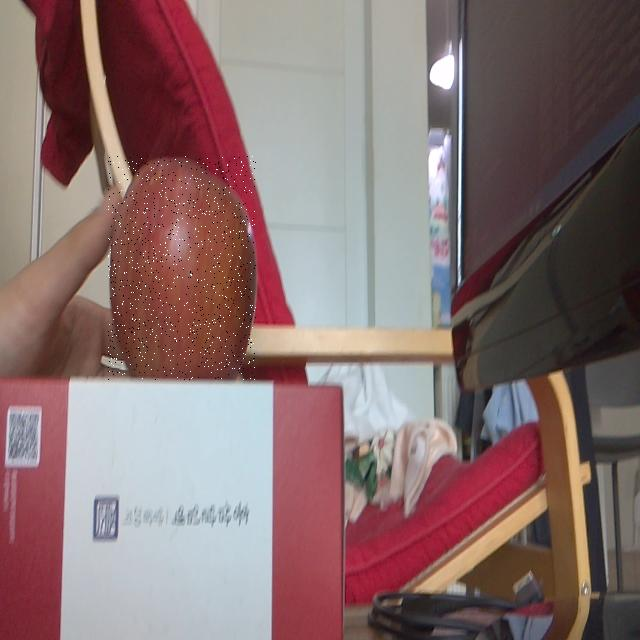apple: (108, 156, 256, 380)
